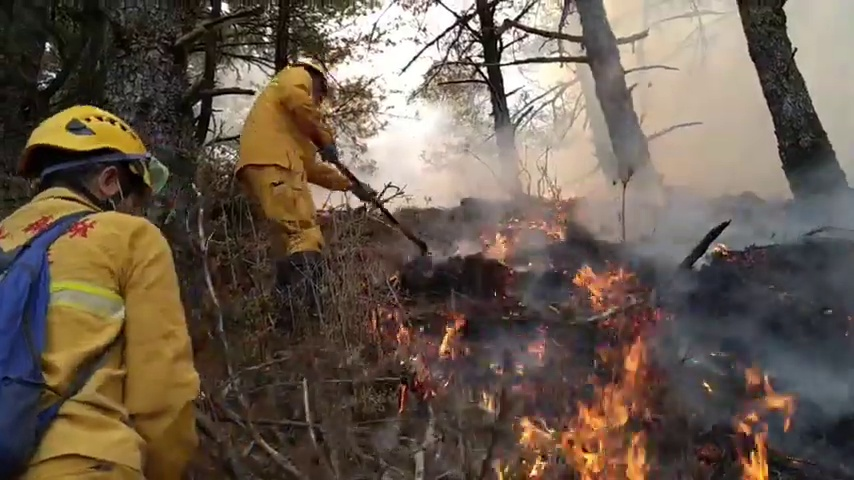fire: (519, 396, 647, 480), (739, 376, 793, 480), (572, 264, 606, 302), (492, 232, 509, 253), (440, 330, 449, 355)
